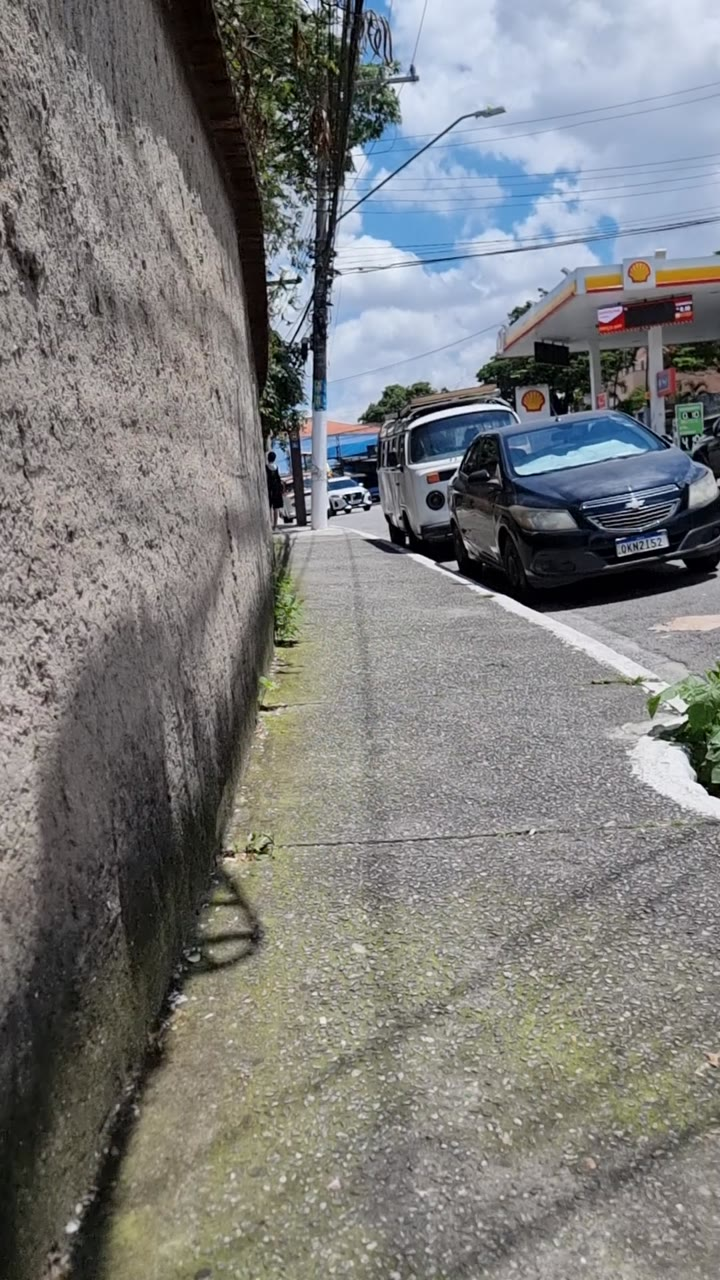obstaculo: (295, 64, 338, 525)
